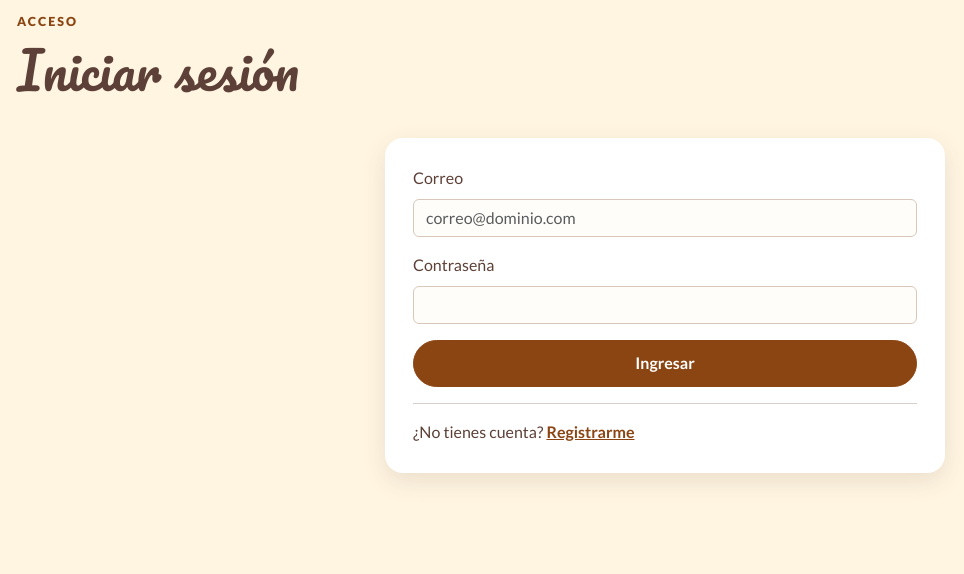
Inicio de sesión › inicia sesión con credenciales válidas cuando no hay usuario registrado
This screenshot has width=964, height=574.
Step 1. Type "maria@duoc.cl" into the field labelled "Correo" → (665, 218), box [413,199,917,237]
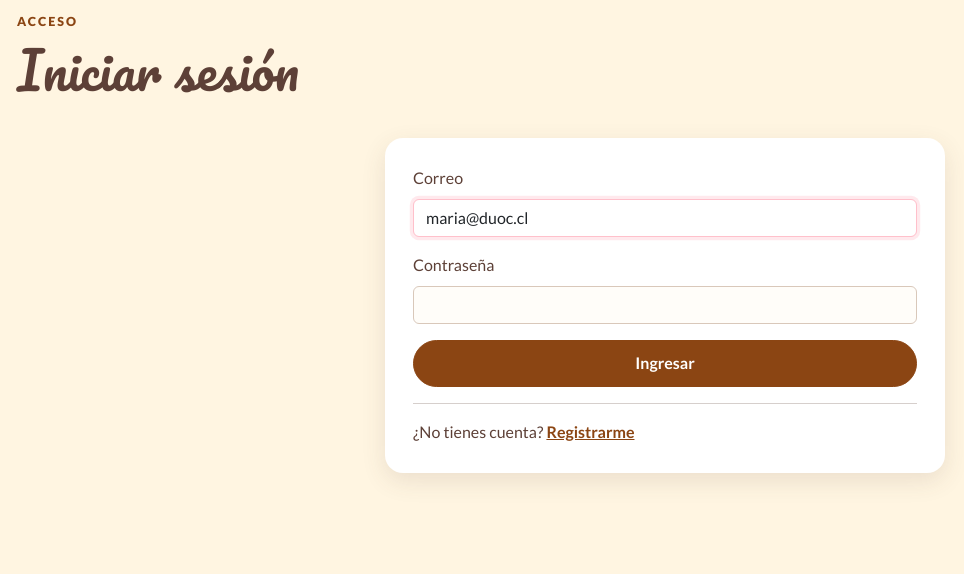
Step 2. Type "1234" into the password field labelled "Contraseña" → (665, 305), box [413,286,917,324]
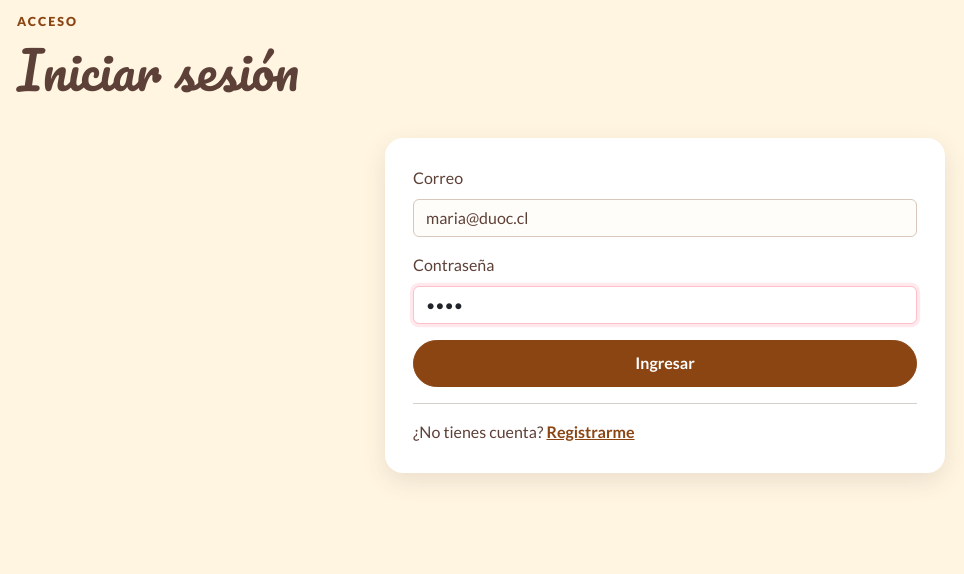
Step 3. Click the button "Ingresar" → (665, 363), box [413,340,917,387]
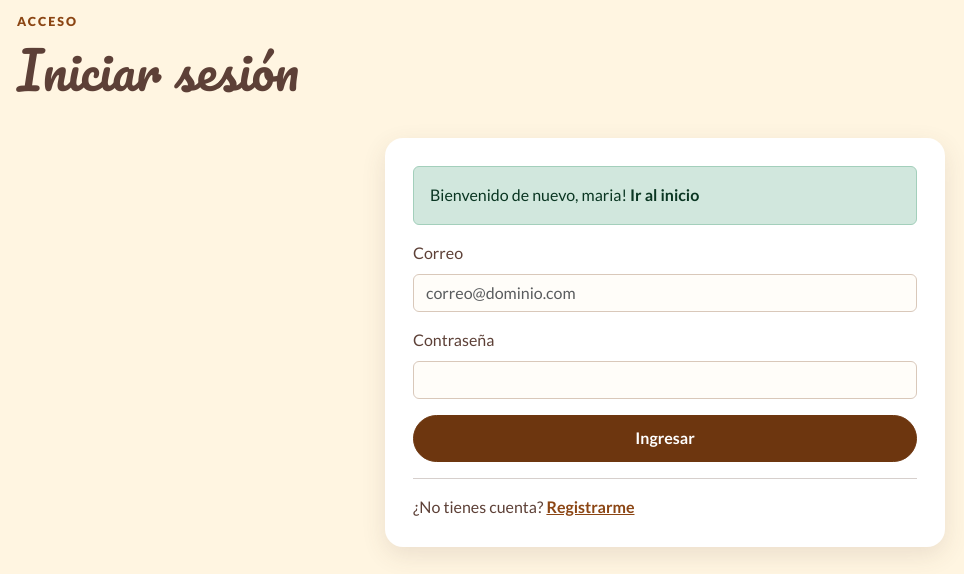
Expected: the text "Bienvenido de nuevo, maria! Ir al inicio" is shown, [413,166,917,225]
